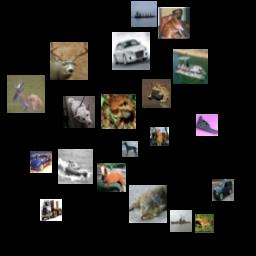airplane: (196, 114, 218, 136)
automobile: (112, 32, 150, 70), (212, 179, 234, 201), (30, 151, 52, 173)
cat: (129, 185, 167, 223), (150, 127, 169, 146)
deer: (50, 42, 88, 80), (7, 75, 45, 113)
dog: (63, 96, 95, 128), (158, 7, 190, 39), (122, 141, 138, 157)
frog: (101, 94, 136, 129), (142, 79, 171, 108), (195, 214, 214, 233)
ship: (58, 149, 93, 184), (173, 49, 208, 84), (131, 1, 157, 27), (170, 210, 192, 232)
truck: (40, 199, 62, 221)
